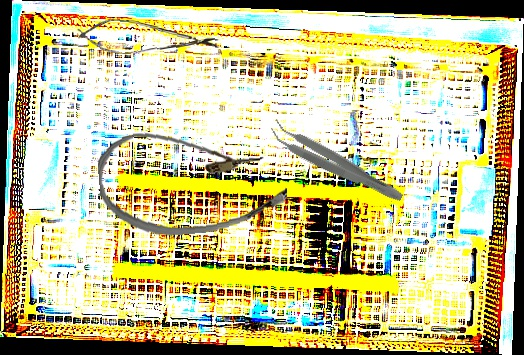Cannula: (95, 120, 290, 242)
Micro Scissor: (75, 17, 221, 59)
Tissue Forceps: (265, 116, 409, 208)
